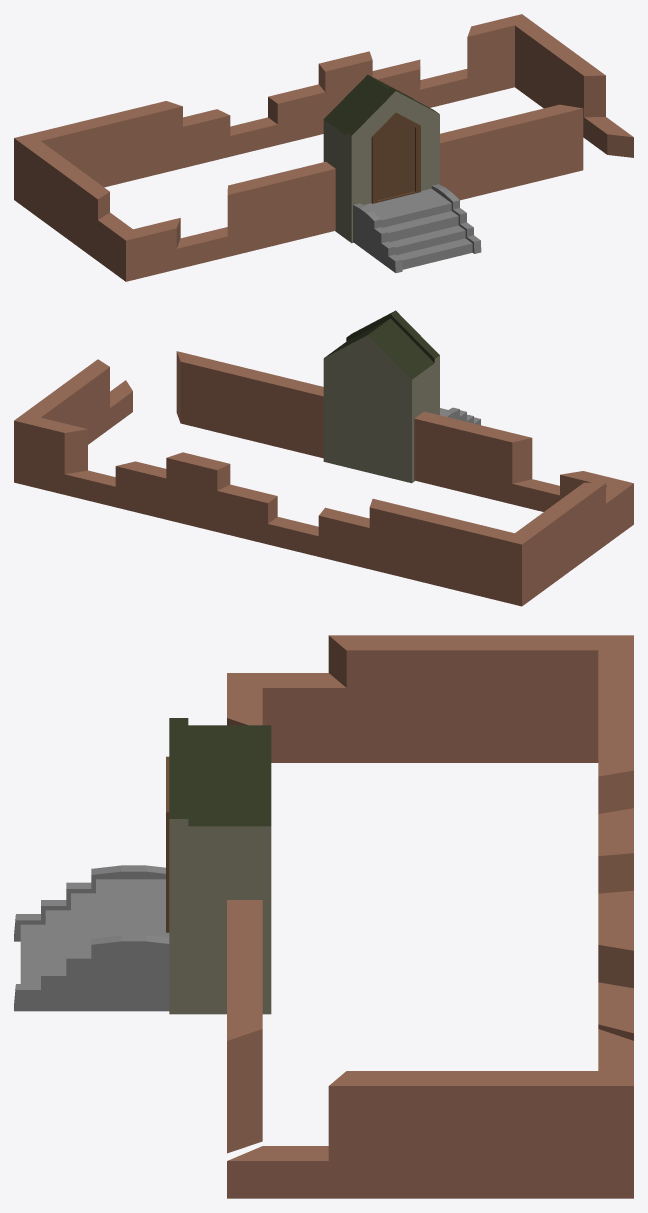
Rendered from University_build_mat.fbx.
3 views of the same model, one above another, from view 1: azimuth 30°, elevation 25°; view 2: azimuth 150°, elevation 25°; view 3: azimuth 270°, elevation 25° (orthographic). The views are drawn at different scales.
Parts seen in each view (by area): view 1: University_build_mat; view 2: University_build_mat; view 3: University_build_mat.
Part boxes in pixels (<box>): University_build_mat: <box>14,14,633,281</box>; University_build_mat: <box>14,310,633,606</box>; University_build_mat: <box>14,635,633,1198</box>.
Size of the model in its own units: 1287 by 343 by 748.
